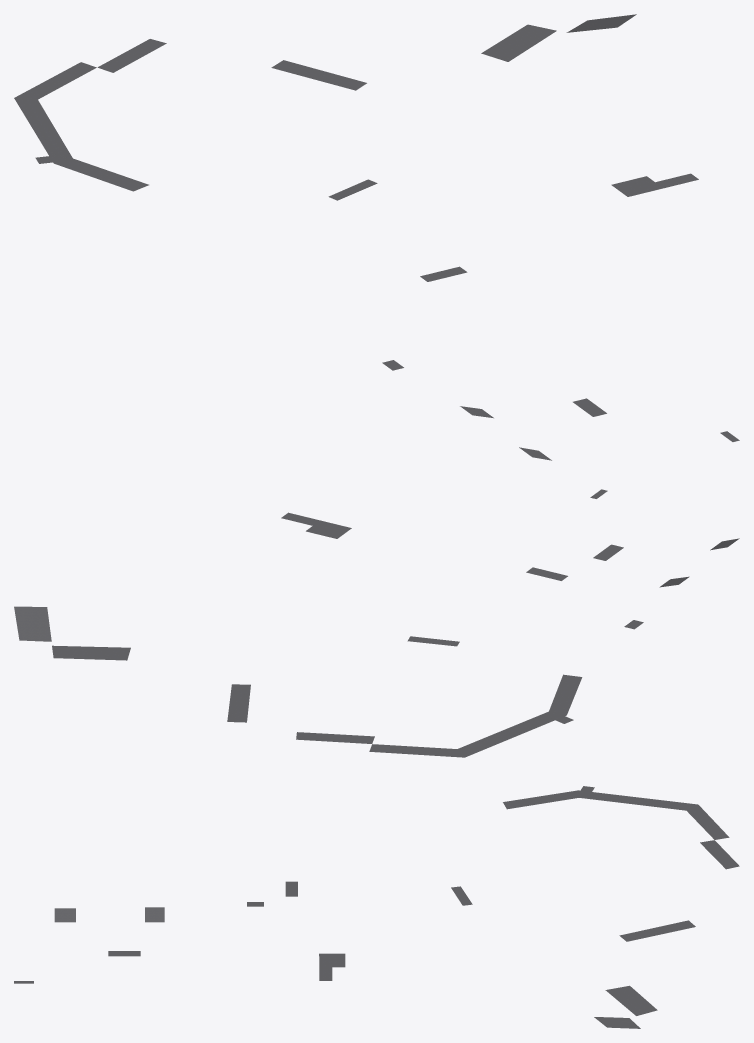
File: kd_stage_1363c5_9_31.glb
3 renders of one model, top to bottom at view 1: azimuth 30°, elevation 25°; view 2: azimuth 150°, elevation 25°; view 3: azimuth 270°, elevation 25°, orthographic. The views are drawn at different scales.
Parts seen in each view (by area): view 1: kd_stage_1363c5_9_31; view 2: kd_stage_1363c5_9_31; view 3: kd_stage_1363c5_9_31.
Boxes of the visible parts, bbox=[...] form: kd_stage_1363c5_9_31: bbox=[14, 14, 739, 460]; kd_stage_1363c5_9_31: bbox=[14, 489, 739, 757]; kd_stage_1363c5_9_31: bbox=[14, 786, 739, 1028].
Bounding box in the file's own units: 98.86 × 13.94 × 130.
1 material, 1 textured.
